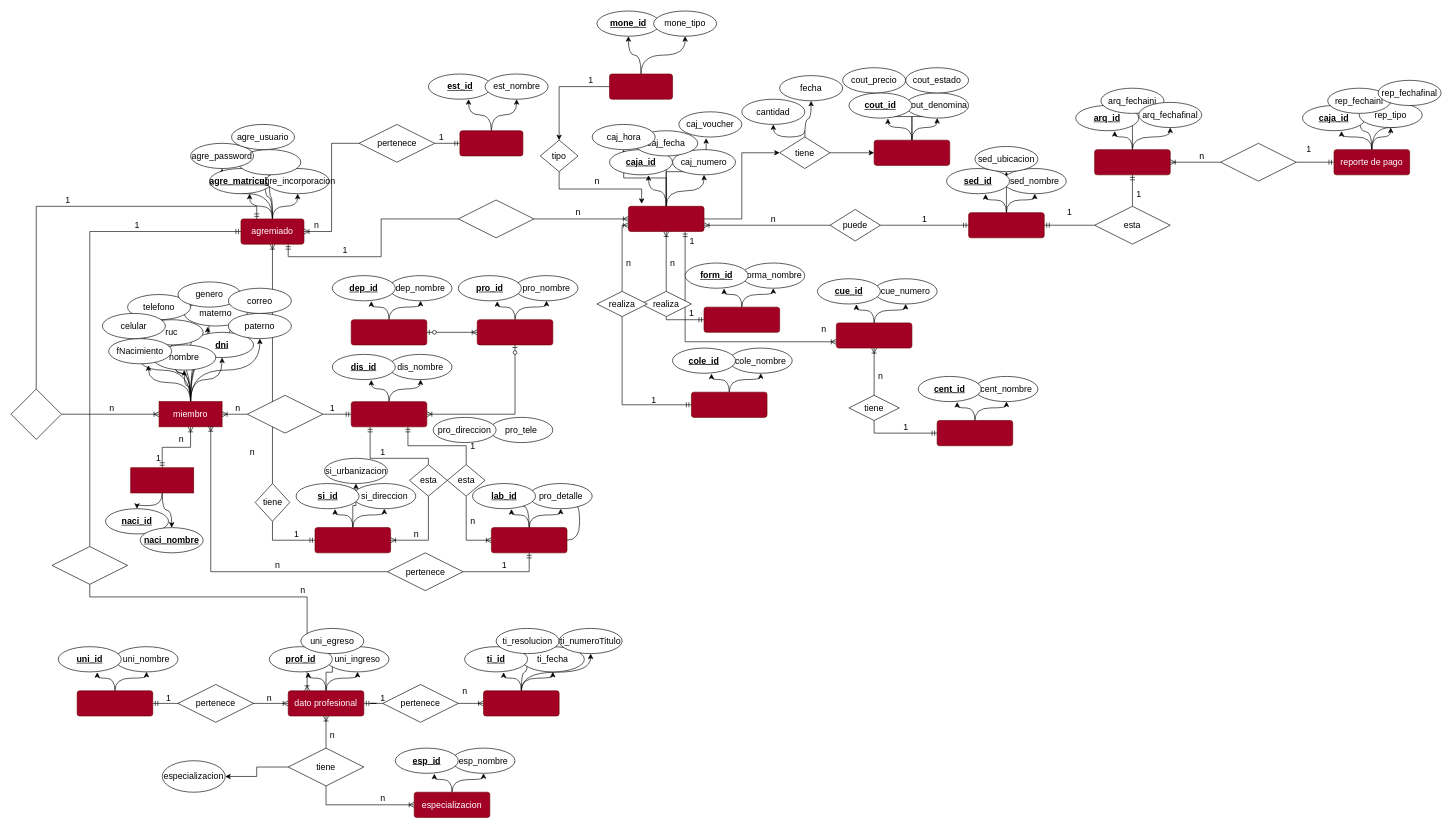
Image size: 1452x828. Some labels were removed from this diagram. The shapes that lost their labels are listed below. From the top down, each one's centre as x and y in pixels, then its label:
At point (641, 86): "tipo de moneda".
At point (269, 162): "agre_resolucion".
At point (491, 143): "estado".
At point (911, 152): "couta".
At point (1132, 162): "arqueo caja".
At point (1258, 162): "hace".
At point (496, 218): "realiza un pago".
At point (666, 219): "caja".
At point (1006, 225): "sedes".
At point (389, 332): "ubig_departemento".
At point (515, 332): "ubig_provincia".
At point (741, 319): "foma de pago".
At point (874, 335): "cuenta".
At point (35, 413): "incluye".
At point (285, 414): "es de".
At point (389, 414): "ubig_distrito".
At point (729, 404): "colegio".
At point (974, 433): "central de banco".
At point (162, 480): "nacionalidad".
At point (352, 540): "sitio actual".
At point (529, 540): "laboral".
At point (89, 565): "registra".
At point (115, 703): "universidad".
At point (521, 703): "titulo".
